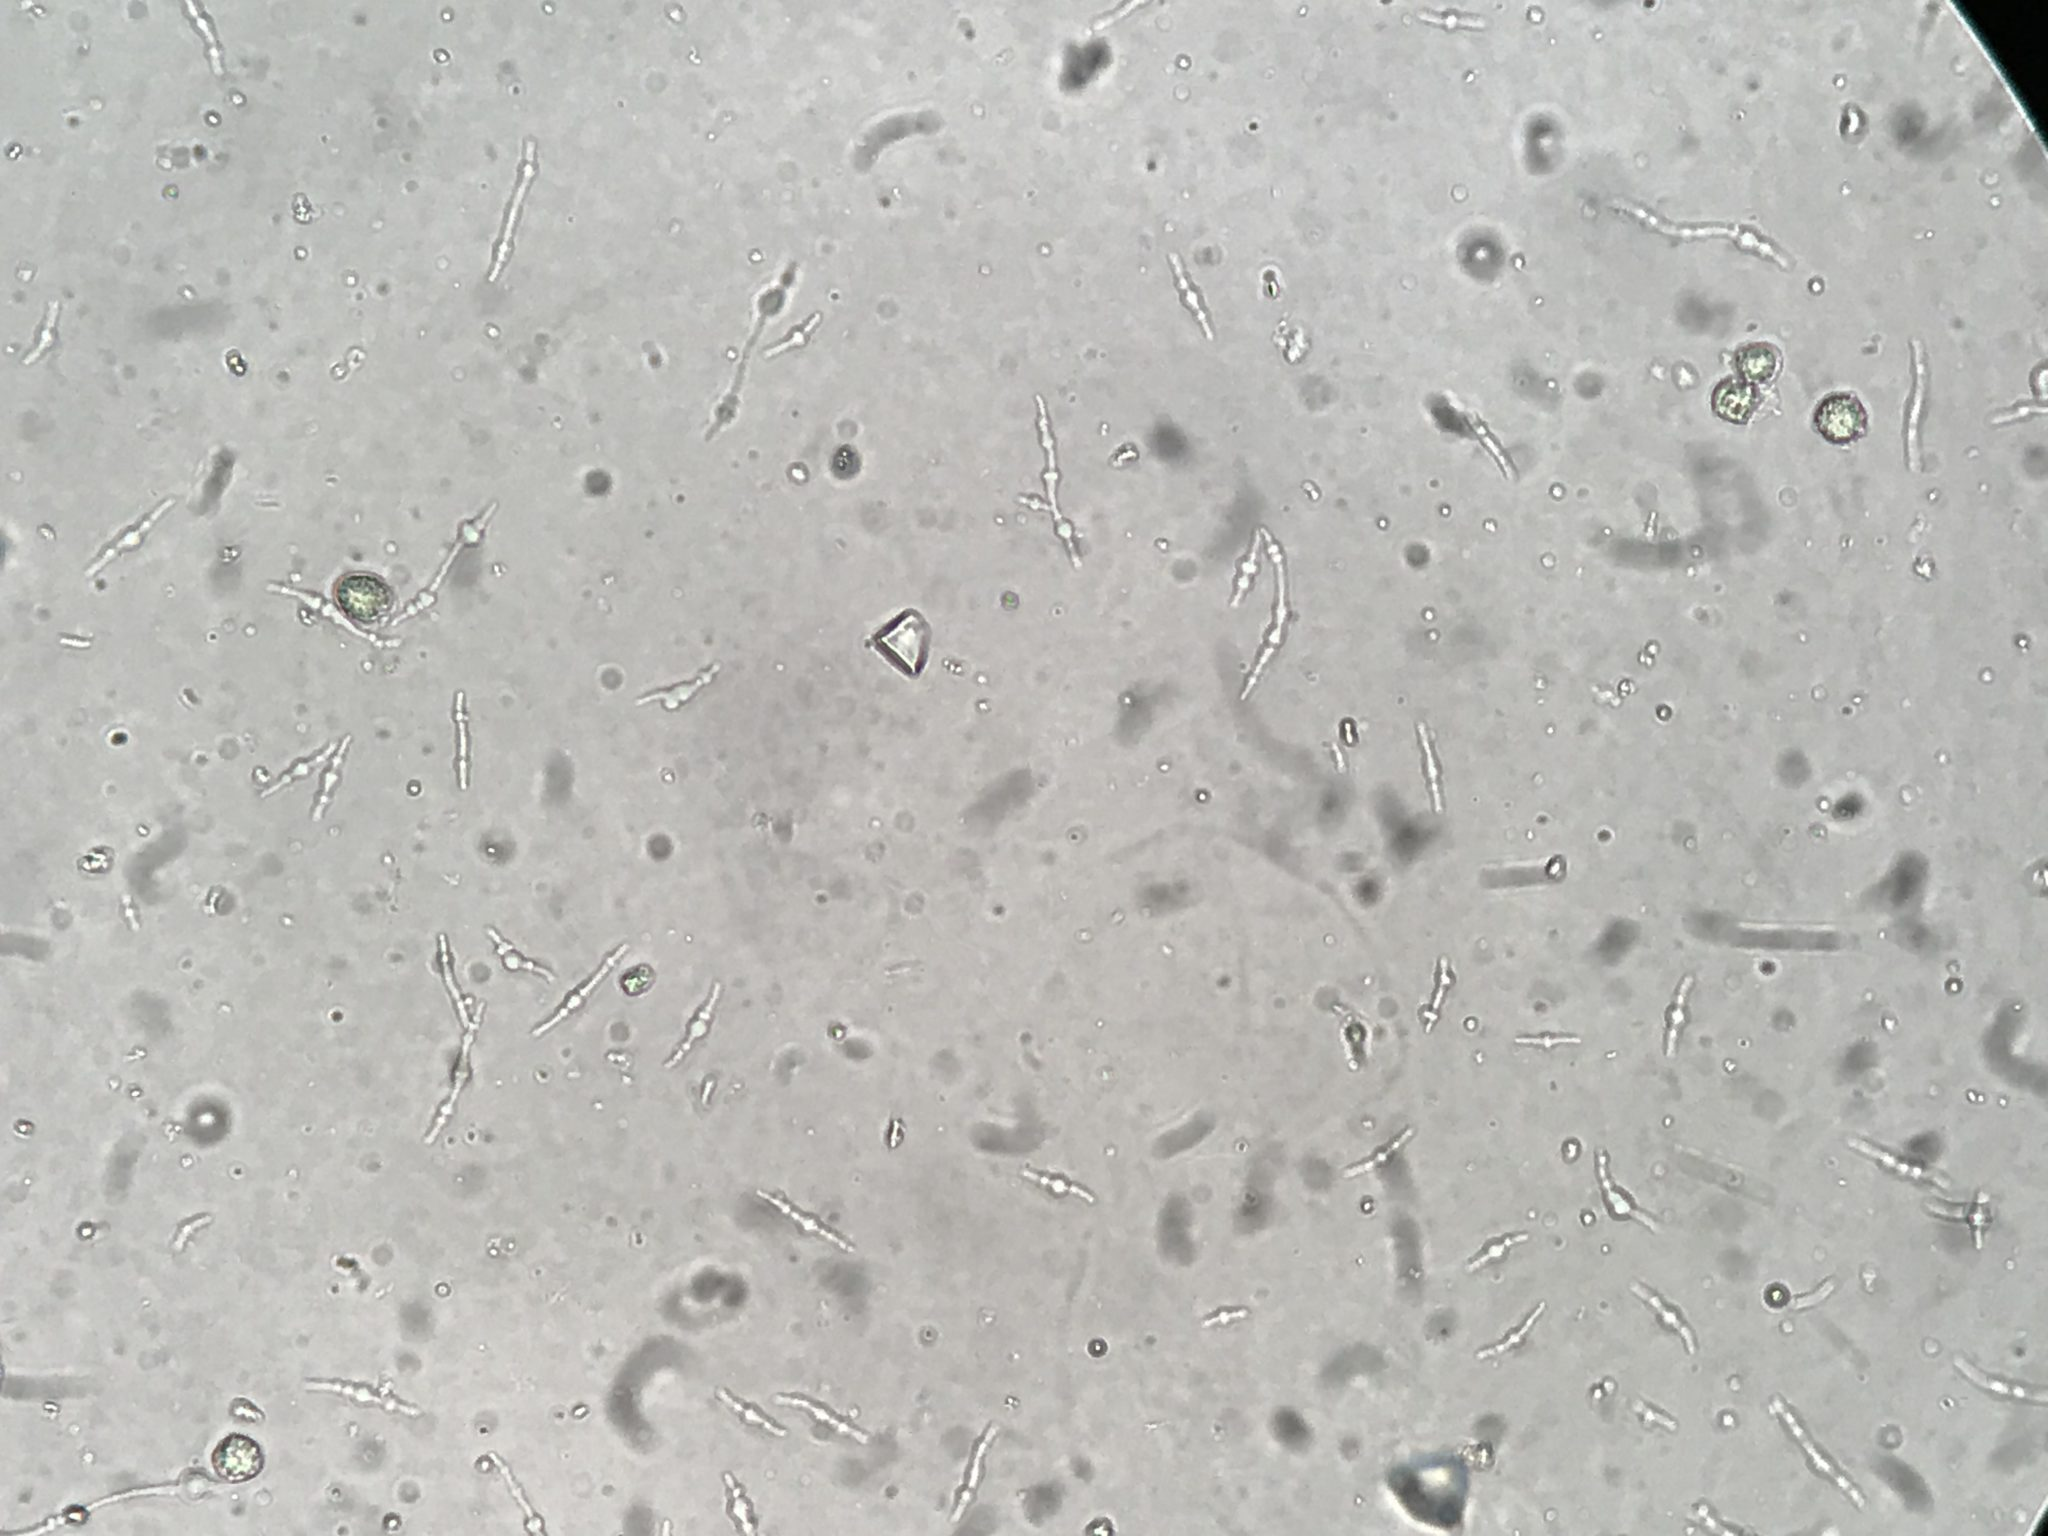Bacteria: (1595, 157, 1808, 274), (1005, 386, 1100, 582), (1218, 513, 1298, 731), (1759, 1375, 1877, 1517), (743, 1160, 864, 1279), (68, 482, 184, 607), (474, 126, 543, 297), (1147, 239, 1235, 360), (1625, 1267, 1716, 1370), (1467, 1297, 1566, 1391), (1890, 323, 1948, 481), (292, 731, 361, 849), (1008, 1147, 1103, 1231), (418, 682, 484, 797), (668, 975, 731, 1087), (1401, 716, 1458, 831), (1347, 1112, 1421, 1197), (1414, 937, 1467, 1054), (248, 726, 334, 797), (1650, 966, 1701, 1071), (761, 297, 834, 369), (1503, 1018, 1601, 1070), (161, 1199, 219, 1276), (23, 294, 73, 382), (1456, 1229, 1538, 1275), (614, 958, 669, 1005)
Crystal: (869, 599, 934, 687)
RBC: (326, 553, 397, 632), (1808, 381, 1874, 457), (206, 1423, 271, 1488), (1734, 329, 1790, 394), (1713, 373, 1761, 431)
